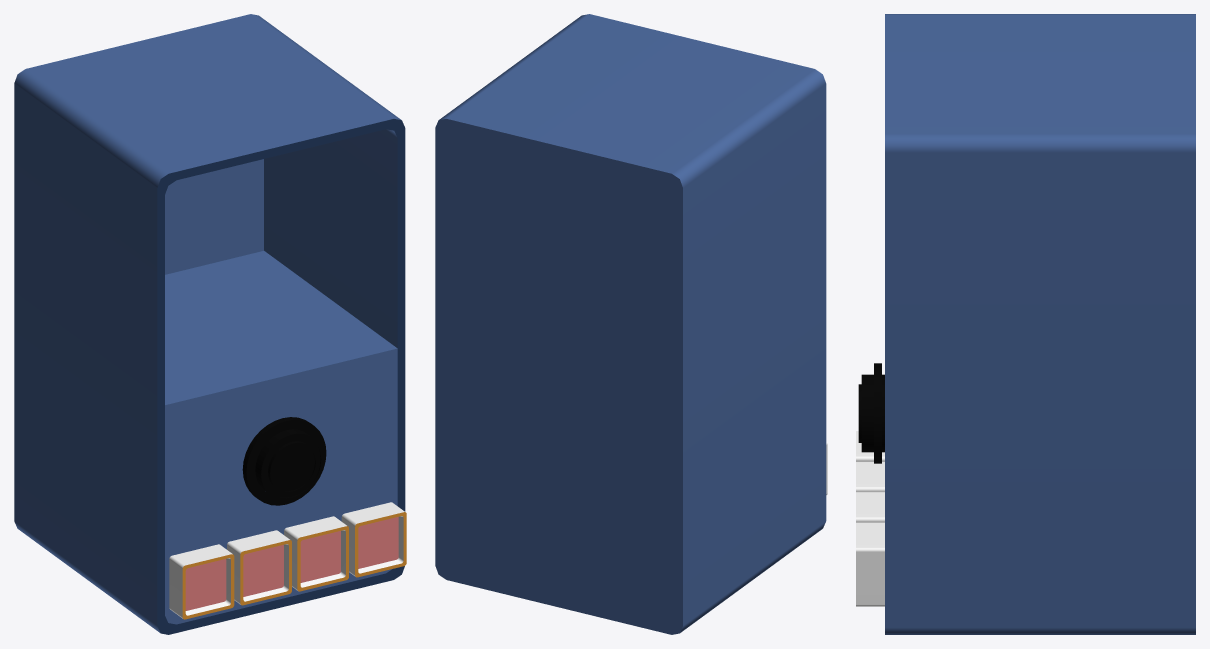
File: Map.fbx
3 views of the same model, side by side, from view 1: azimuth 30°, elevation 25°; view 2: azimuth 150°, elevation 25°; view 3: azimuth 270°, elevation 25° (orthographic). The views are drawn at different scales.
Parts seen in each view (by area): view 1: group4; view 2: group4; view 3: group4.
Boxes of the visible parts, x1,y1,x2,y2 form: group4: (14,14,406,634); group4: (435,14,827,634); group4: (856,14,1195,634).
Size of the model in its own units: 327 by 581 by 357.
